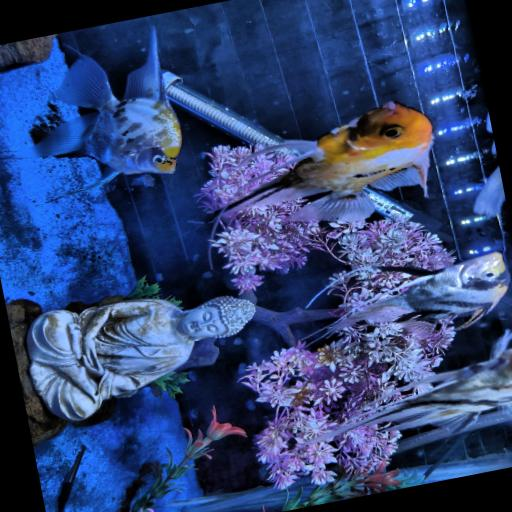Fish: (0, 30, 181, 194), (219, 102, 432, 222), (305, 331, 511, 444), (323, 253, 508, 337), (473, 166, 504, 215), (132, 174, 154, 187)
